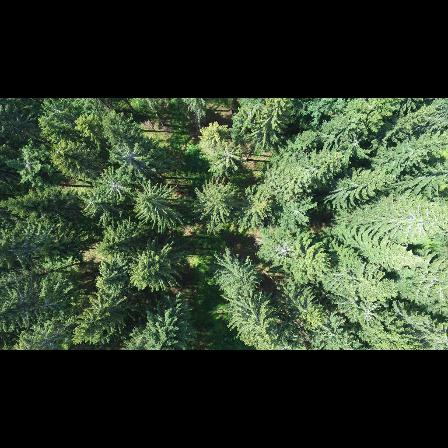Sick: (107, 139, 149, 175), (263, 231, 303, 268), (93, 168, 136, 202), (351, 298, 384, 328)
